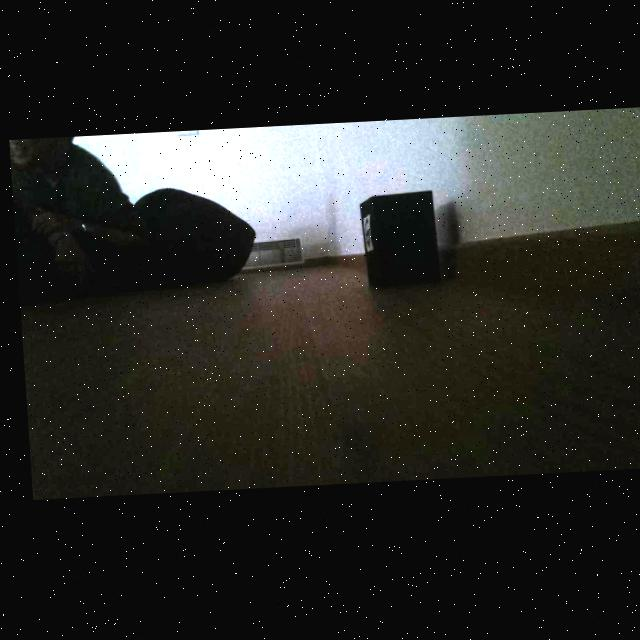G: (362, 223, 367, 250)
